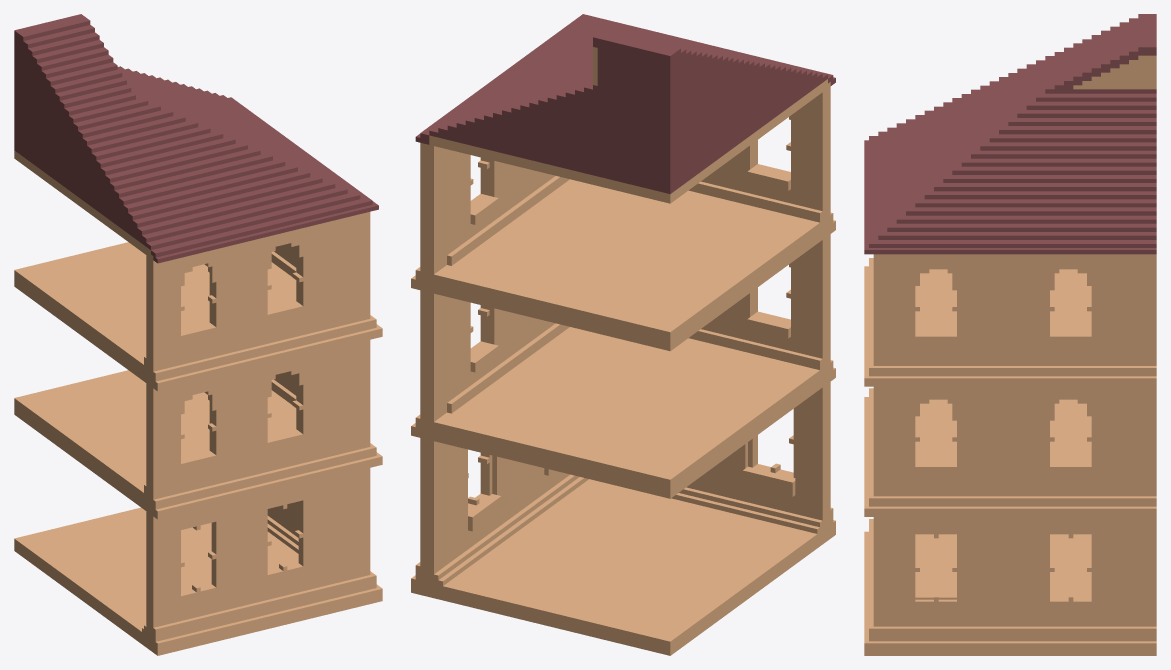
File: Filler LSU Building 1-6.obj
3 renders of one model, left to right at view 1: azimuth 30°, elevation 25°; view 2: azimuth 150°, elevation 25°; view 3: azimuth 270°, elevation 25°, orthographic. The views are drawn at different scales.
Visible parts, largest first — view 1: Filler LSU Building 1-6; view 2: Filler LSU Building 1-6; view 3: Filler LSU Building 1-6.
Part boxes in pixels (x1,y1,x2,y2): Filler LSU Building 1-6: [14, 14, 382, 655]; Filler LSU Building 1-6: [411, 14, 835, 655]; Filler LSU Building 1-6: [864, 14, 1156, 655].
Size of the model in its own units: 57 by 126 by 63.
1 material, 1 textured.
